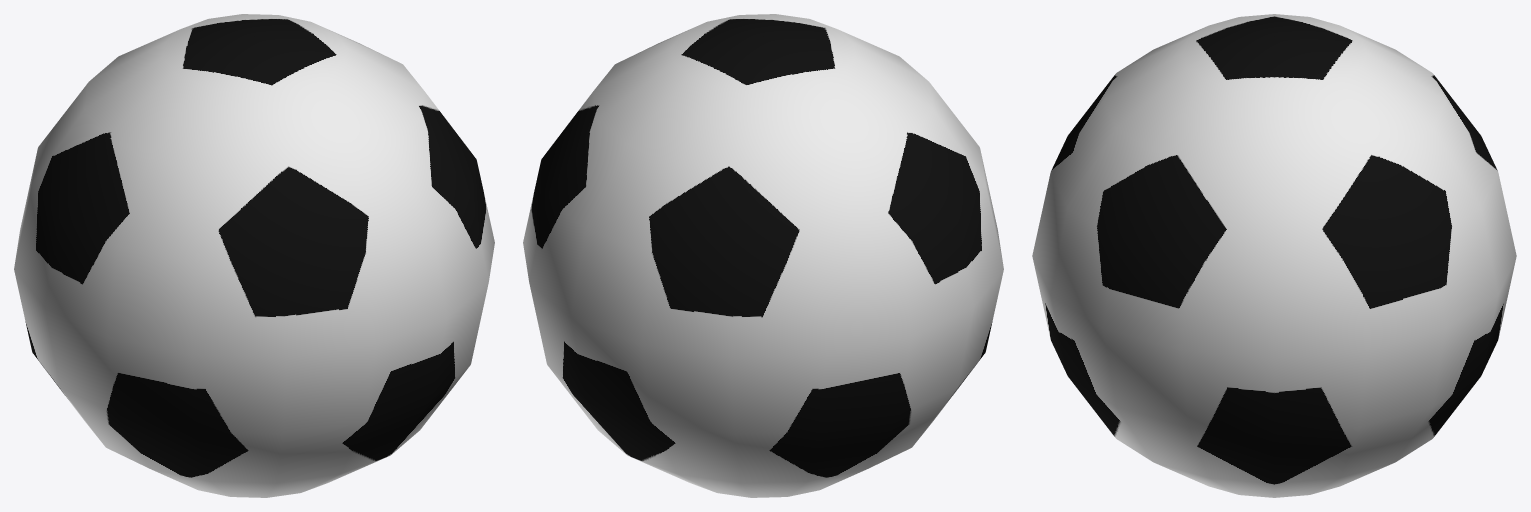
File: low-poly_football.glb
3 renders of one model, left to right at view 1: azimuth 30°, elevation 25°; view 2: azimuth 150°, elevation 25°; view 3: azimuth 270°, elevation 25°, orthographic.
Visible parts, largest first — view 1: Sphere; view 2: Sphere; view 3: Sphere.
Boxes of the visible parts, left/top/right/bottom form: Sphere: left=14, top=14, right=494, bottom=497; Sphere: left=523, top=14, right=1003, bottom=497; Sphere: left=1032, top=14, right=1516, bottom=497.
Bounding box in the file's own units: 0.3103 × 0.3103 × 0.3103.
Materials: 1 (1 with a texture image).
